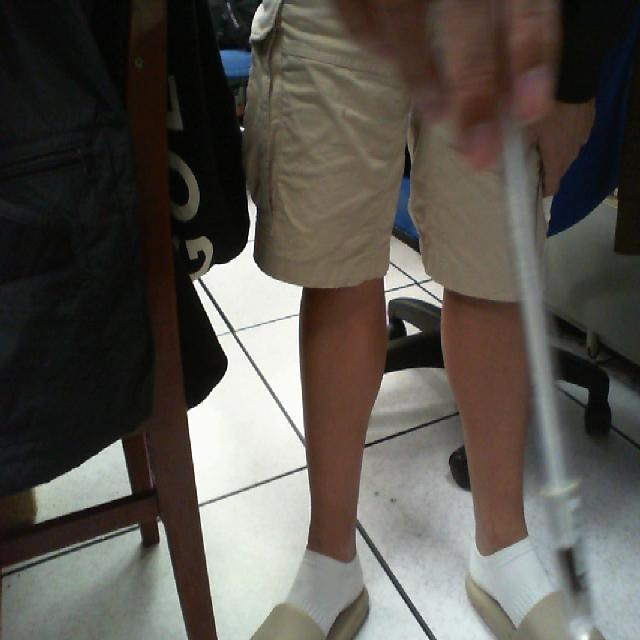Pen: (487, 101, 612, 637)
